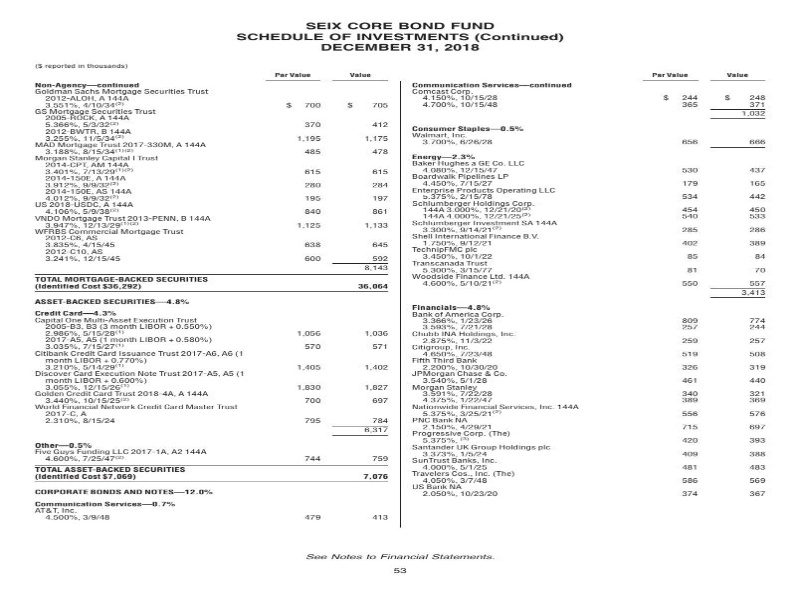table: (28, 58, 407, 536), (393, 68, 781, 525)
